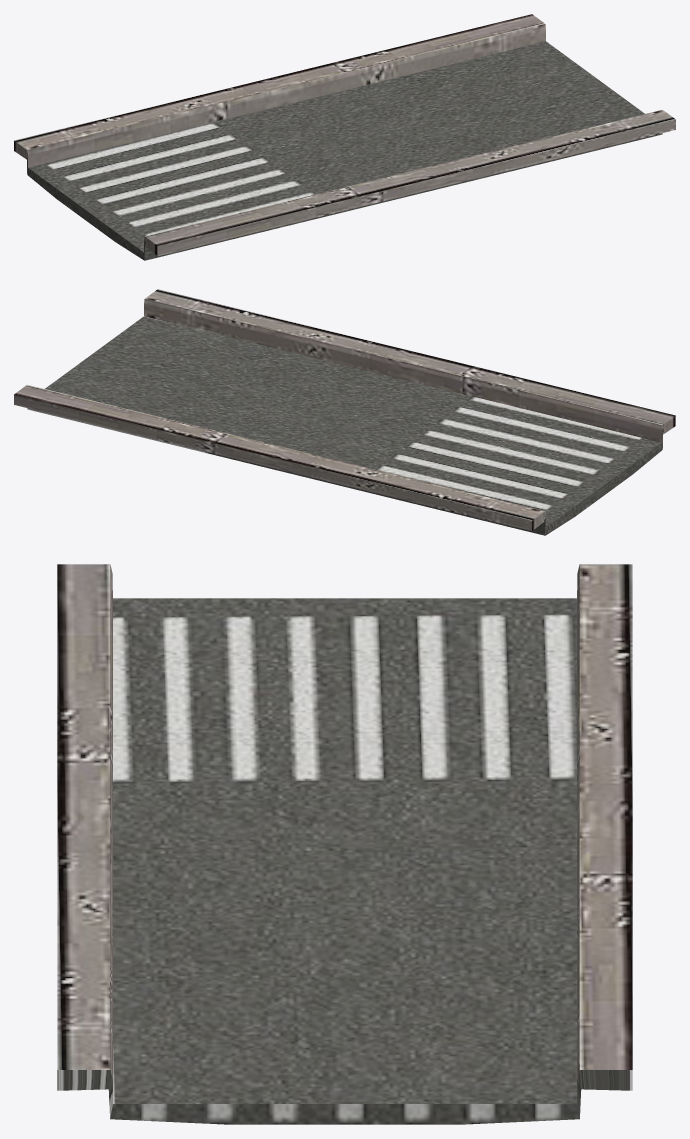
File: calle2zebra.fbx
The picture shows the model from 3 angles, top to bottom: view 1: azimuth 30°, elevation 25°; view 2: azimuth 150°, elevation 25°; view 3: azimuth 270°, elevation 25°; orthographic projection. The views are drawn at different scales.
Parts seen in each view (by area): view 1: 4in 2.008; view 2: 4in 2.008; view 3: 4in 2.008.
Boxes of the visible parts, x1=… form: 4in 2.008: x1=14, y1=14, x2=675, y2=260; 4in 2.008: x1=14, y1=289, x2=675, y2=535; 4in 2.008: x1=57, y1=564, x2=632, y2=1124.
Size of the model in its own units: 563 by 28.39 by 271.
